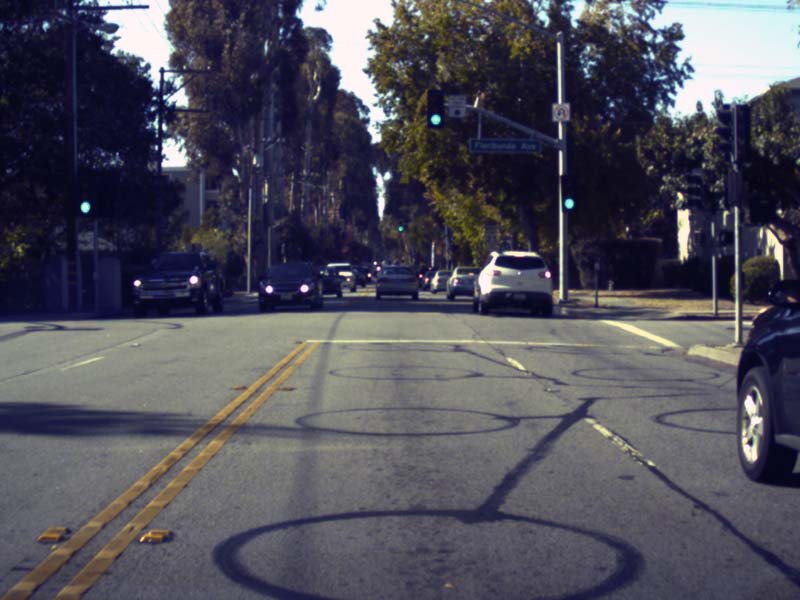Green: (561, 175, 578, 214), (427, 90, 444, 128), (76, 178, 91, 217), (399, 223, 403, 232)
